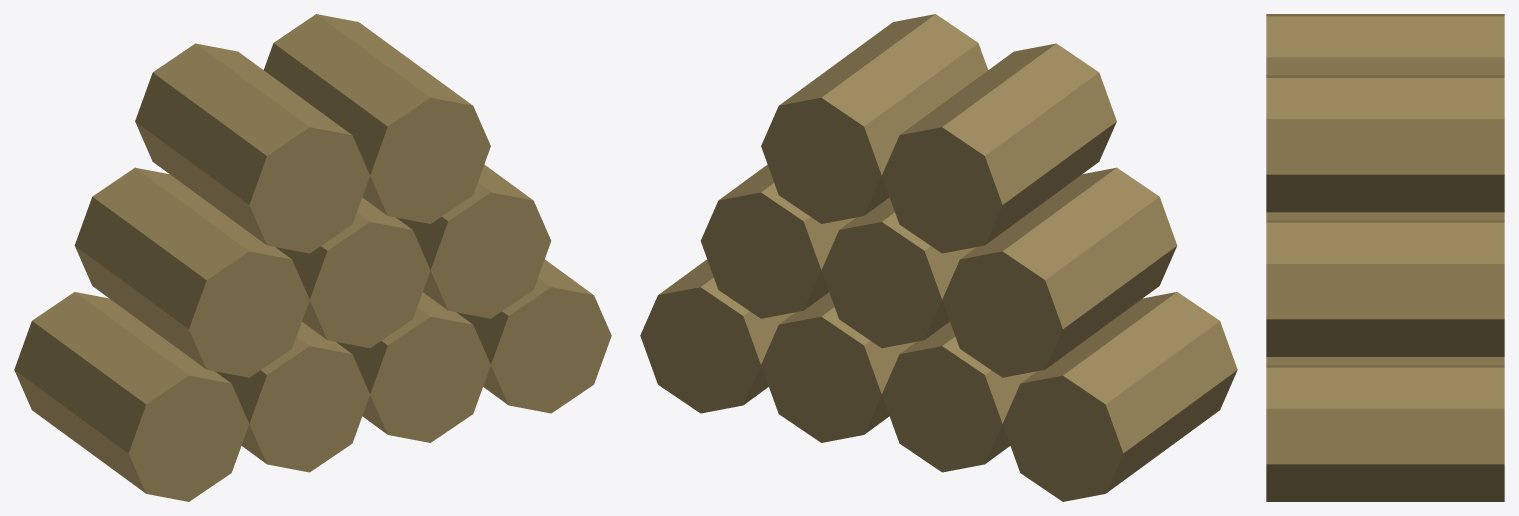
The model's file is SM_Prop_farm_bales_0_LOD1.glb.
3 views of the same model, side by side, from view 1: azimuth 30°, elevation 25°; view 2: azimuth 150°, elevation 25°; view 3: azimuth 270°, elevation 25° (orthographic). The views are drawn at different scales.
Visible parts, largest first — view 1: SM_Prop_farm_bales_0_LOD1; view 2: SM_Prop_farm_bales_0_LOD1; view 3: SM_Prop_farm_bales_0_LOD1.
Boxes of the visible parts, box(x1,y1,x2,y2) form: SM_Prop_farm_bales_0_LOD1: box(14, 14, 611, 501); SM_Prop_farm_bales_0_LOD1: box(640, 14, 1237, 501); SM_Prop_farm_bales_0_LOD1: box(1266, 14, 1504, 501).
Bounding box in the file's own units: 6 × 4.1 × 2.46.
